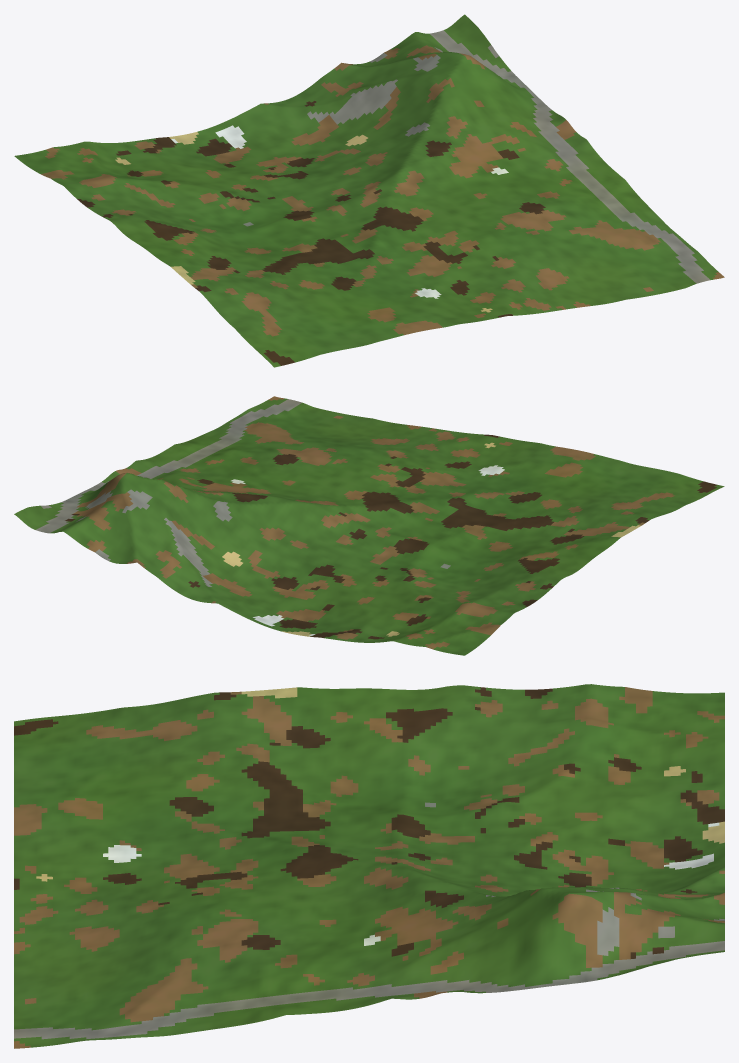
Rendered from chunk_3_3.glb.
3 views of the same model, one above another, from view 1: azimuth 30°, elevation 25°; view 2: azimuth 150°, elevation 25°; view 3: azimuth 270°, elevation 25° (orthographic). The views are drawn at different scales.
Visible parts, largest first — view 1: Surface_Grass, Surface_Dirt, Surface_Mud, Surface_Gravel, Surface_Snow, Surface_Sand; view 2: Surface_Grass, Surface_Dirt, Surface_Mud, Surface_Gravel, Surface_Sand, Surface_Snow; view 3: Surface_Grass, Surface_Dirt, Surface_Mud, Surface_Gravel, Surface_Sand, Surface_Snow.
Part boxes in pixels (<box>): Surface_Grass: <box>14,14,718,367</box>; Surface_Dirt: <box>41,45,724,336</box>; Surface_Mud: <box>77,101,545,365</box>; Surface_Gravel: <box>243,30,710,283</box>; Surface_Snow: <box>171,125,508,298</box>; Surface_Sand: <box>115,132,492,312</box>; Surface_Grass: <box>14,398,724,655</box>; Surface_Dirt: <box>73,396,674,649</box>; Surface_Mud: <box>65,434,717,639</box>; Surface_Gravel: <box>36,399,450,586</box>; Surface_Sand: <box>222,442,640,636</box>; Surface_Snow: <box>231,465,504,635</box>; Surface_Grass: <box>14,684,724,1047</box>; Surface_Dirt: <box>14,687,724,1048</box>; Surface_Mud: <box>14,687,724,958</box>; Surface_Gravel: <box>14,802,724,1039</box>; Surface_Sand: <box>36,687,724,881</box>; Surface_Snow: <box>103,822,719,945</box>.
Bounding box in the file's own units: 256 × 47.43 × 256.
